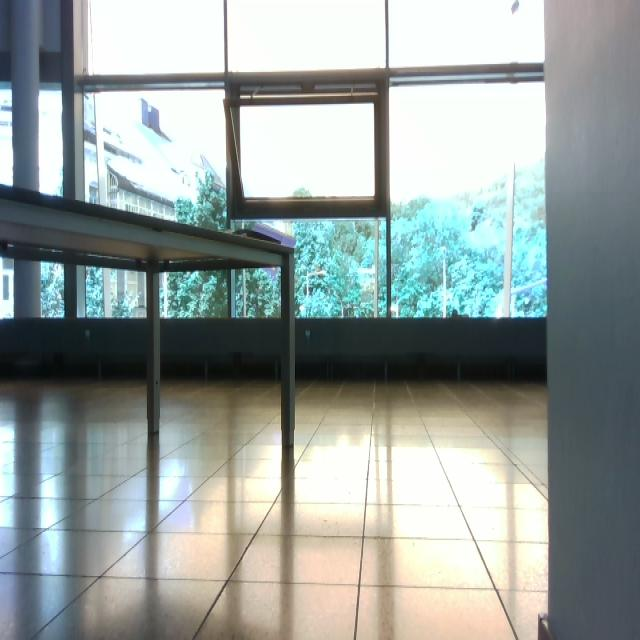door: (2, 1, 639, 640), (156, 263, 290, 447)
light bulb: (306, 269, 328, 318), (511, 1, 520, 14), (317, 270, 328, 277)
pillar: (543, 1, 640, 640)
table: (2, 182, 300, 452)
tiled floor: (1, 376, 550, 638)
